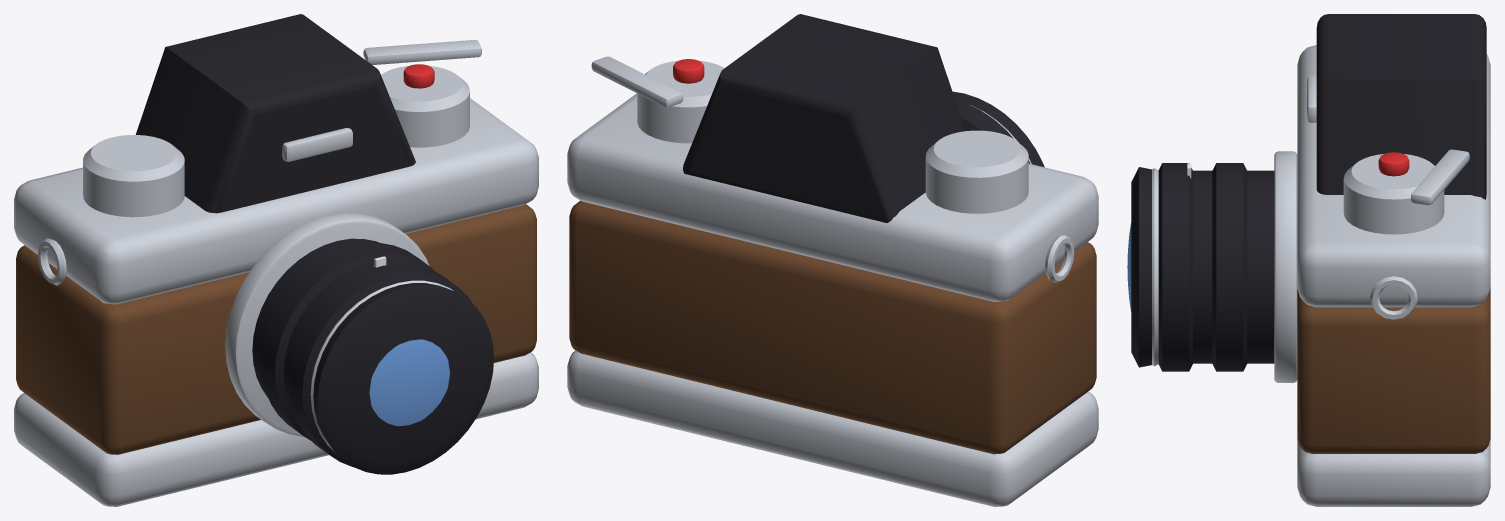
The model's file is Camera.fbx.
3 renders of one model, left to right at view 1: azimuth 30°, elevation 25°; view 2: azimuth 150°, elevation 25°; view 3: azimuth 270°, elevation 25°, orthographic. The views are drawn at different scales.
Parts seen in each view (by area): view 1: Chrome, Body, Leather, Lens, Red; view 2: Chrome, Leather, Body, Red; view 3: Body, Chrome, Leather, Red.
Part boxes in pixels (left/top/right/bottom): Chrome: left=14, top=40, right=538, bottom=506; Body: left=135, top=14, right=493, bottom=474; Leather: left=16, top=204, right=536, bottom=454; Lens: left=369, top=339, right=449, bottom=426; Red: left=403, top=64, right=434, bottom=88; Chrome: left=567, top=56, right=1098, bottom=506; Leather: left=569, top=200, right=1096, bottom=454; Body: left=683, top=14, right=1044, bottom=222; Red: left=673, top=59, right=704, bottom=83; Body: left=1131, top=14, right=1486, bottom=371; Chrome: left=1152, top=45, right=1490, bottom=506; Leather: left=1297, top=288, right=1490, bottom=453; Red: left=1378, top=152, right=1409, bottom=176.
Bounding box in the file's own units: 134 × 103 × 94.
